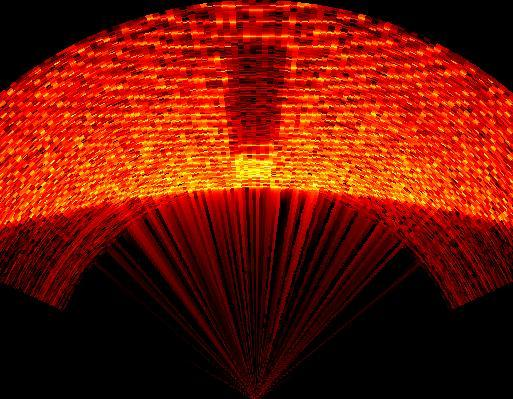box_crate: (220, 36, 291, 156)
